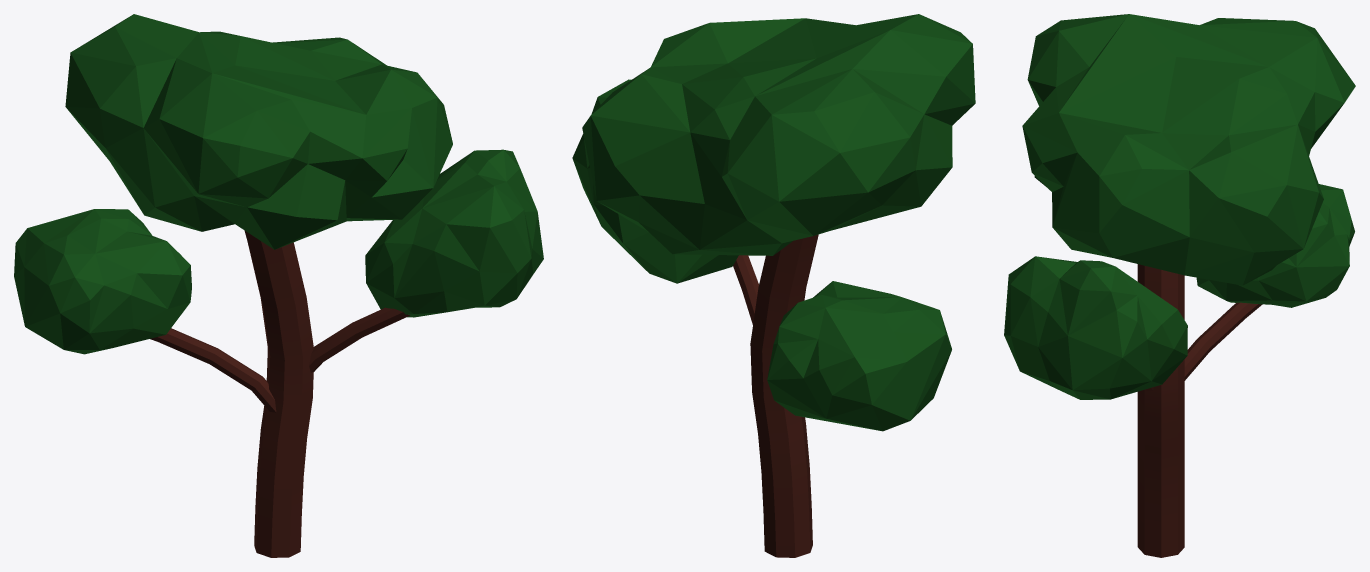
The model's file is SM_tree_02.fbx.
The picture shows the model from 3 angles, left to right: view 1: azimuth 30°, elevation 25°; view 2: azimuth 150°, elevation 25°; view 3: azimuth 270°, elevation 25°; orthographic projection. The views are drawn at different scales.
Visible parts, largest first — view 1: tree_02; view 2: tree_02; view 3: tree_02.
Part boxes in pixels (x1,y1,x2,y2): tree_02: [14, 14, 543, 557]; tree_02: [572, 14, 975, 557]; tree_02: [1004, 14, 1355, 557].
Size of the model in its own units: 1296 by 1504 by 969.
